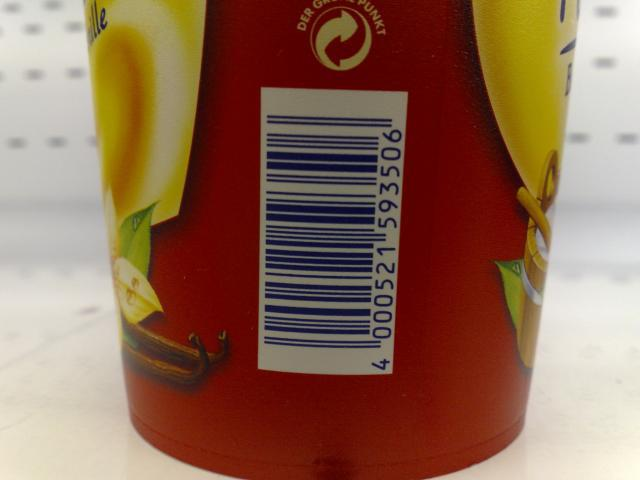Barkod: (260, 111, 380, 347)
